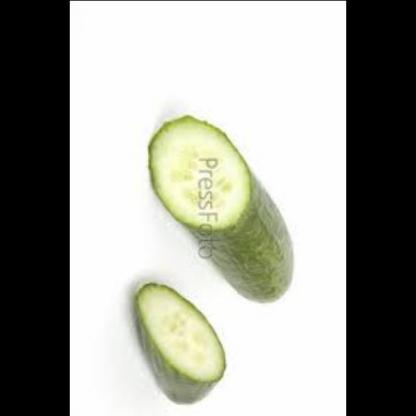cucumber: (150, 112, 297, 305), (132, 277, 228, 410)
